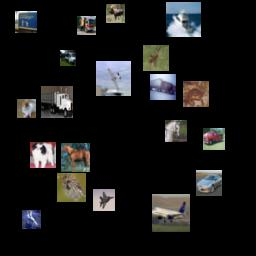airplane: (152, 194, 190, 232), (96, 61, 131, 96), (93, 189, 115, 211), (22, 210, 41, 229)
automobile: (196, 170, 222, 196)
bird: (57, 173, 86, 202)
cat: (17, 99, 36, 118)
deer: (143, 45, 169, 71), (106, 4, 125, 23)
dog: (30, 142, 56, 168)
frog: (183, 81, 209, 107)
ship: (166, 2, 201, 37)
truck: (41, 86, 73, 118), (150, 74, 176, 100), (203, 128, 225, 150), (15, 11, 37, 33), (77, 16, 96, 35), (60, 50, 76, 66)
